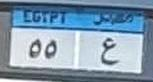5: (43, 37, 59, 61), (27, 37, 42, 59)
ain: (98, 36, 120, 68)
